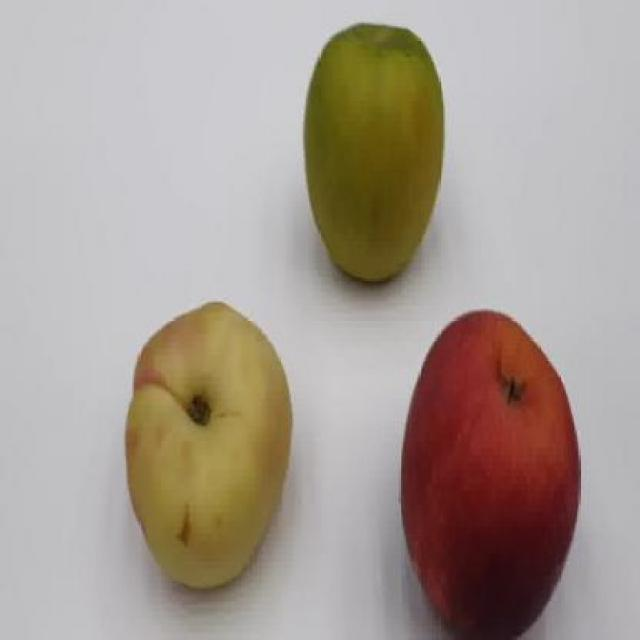Fresh Apple: (383, 316, 590, 640), (125, 309, 294, 583), (297, 26, 448, 282)
